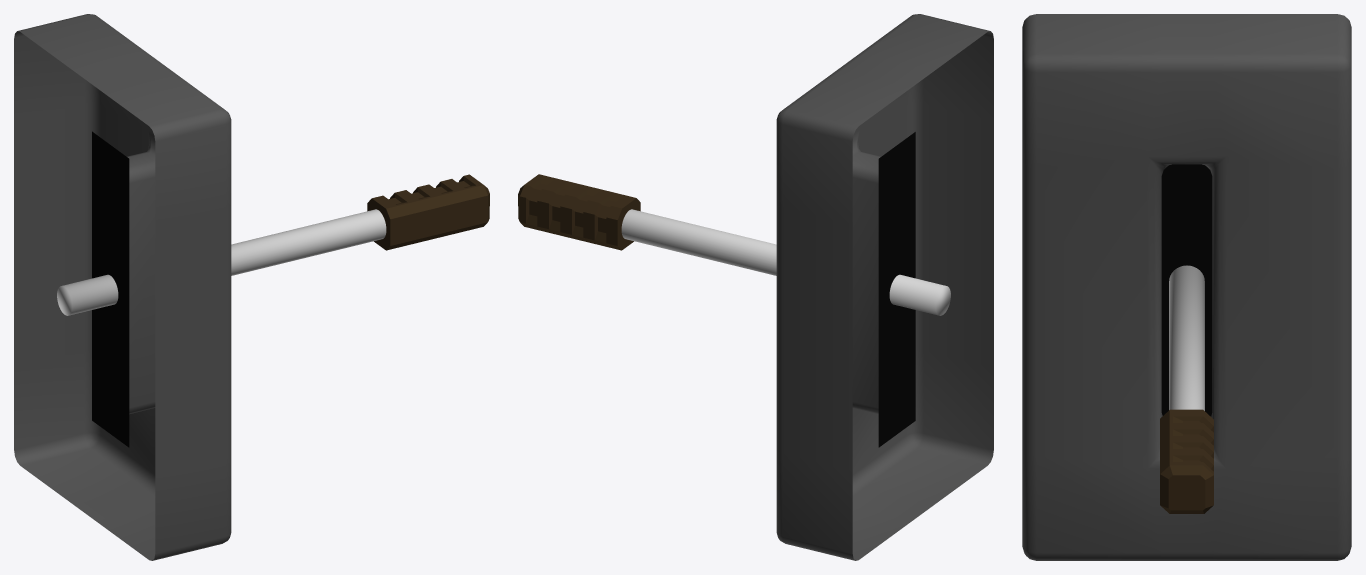
The model's file is lever.fbx.
3 views of the same model, side by side, from view 1: azimuth 30°, elevation 25°; view 2: azimuth 150°, elevation 25°; view 3: azimuth 270°, elevation 25° (orthographic). The views are drawn at different scales.
Parts seen in each view (by area): view 1: base, lever; view 2: base, lever; view 3: base, lever.
Part boxes in pixels (x1,y1,x2,y2): base: (14, 14, 231, 560); lever: (57, 174, 489, 315); base: (776, 14, 993, 560); lever: (518, 174, 950, 315); base: (1022, 14, 1351, 560); lever: (1160, 265, 1213, 513).
Size of the model in its own units: 40 by 39.74 by 23.43.
